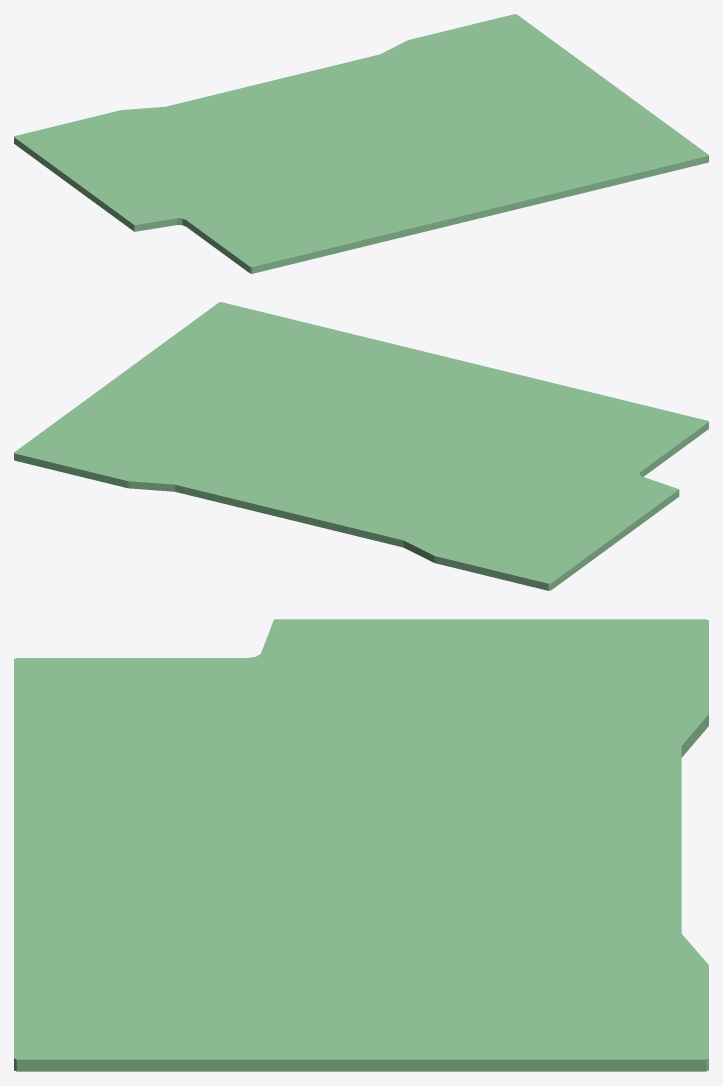
File: room_03_blocker2.fbx
3 views of the same model, one above another, from view 1: azimuth 30°, elevation 25°; view 2: azimuth 150°, elevation 25°; view 3: azimuth 270°, elevation 25° (orthographic). The views are drawn at different scales.
Visible parts, largest first — view 1: Room3 Blocker2; view 2: Room3 Blocker2; view 3: Room3 Blocker2.
Boxes of the visible parts, <box> form: Room3 Blocker2: <box>14,14,708,273</box>; Room3 Blocker2: <box>14,302,708,590</box>; Room3 Blocker2: <box>14,619,708,1071</box>.
Bounding box in the file's own units: 315 × 4.01 × 210.
